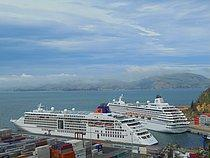Ship: (7, 102, 163, 148), (103, 94, 193, 136)
